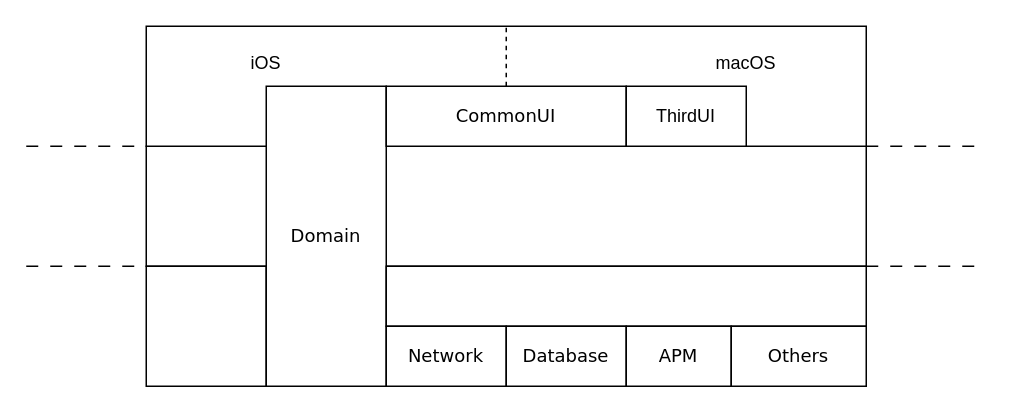
This 1014x413 diagram has some shape labels left out. Here are the shapes that lost their labels. From the top down, the box of each, then its label:
(145, 145, 866, 266): Common / Infrastructure
(385, 265, 866, 326): BaseKit
(145, 265, 266, 386): Third
